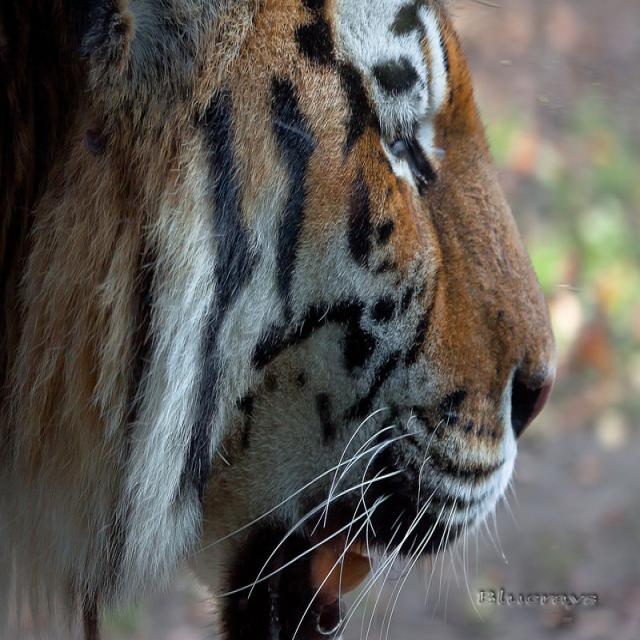Tiger: (0, 5, 557, 628)
